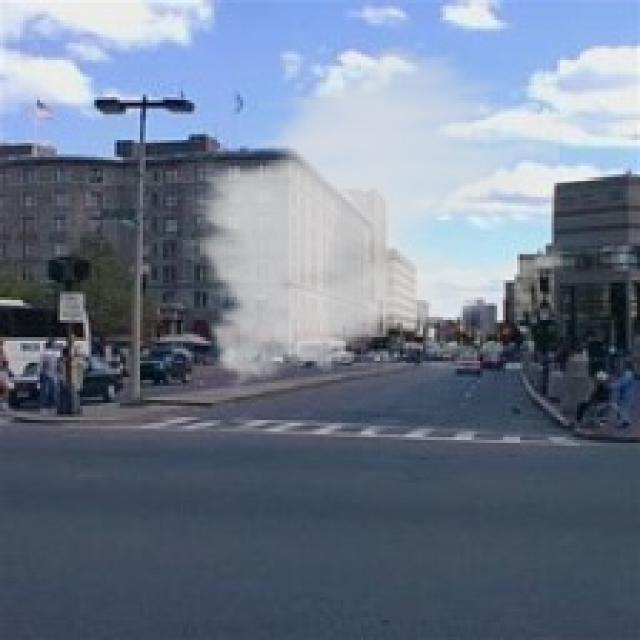smoke: (180, 34, 563, 397)
